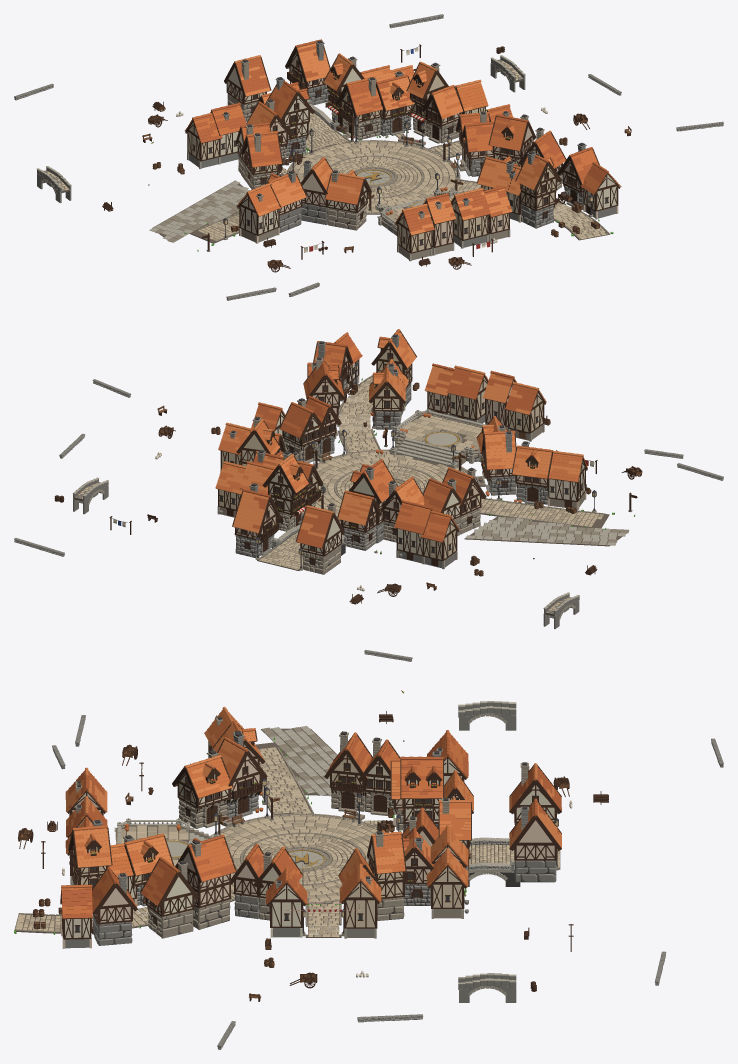
The model's file is LOBBY_VM_03_TOWN_6c3d02.fbx.
3 views of the same model, one above another, from view 1: azimuth 30°, elevation 25°; view 2: azimuth 150°, elevation 25°; view 3: azimuth 270°, elevation 25° (orthographic). The views are drawn at different scales.
Parts seen in each view (by area): view 1: VM_Town_Plaza__Stone_Paving_VM_Cob, VM_House_QEE__Wood_VM_Timber, VM_Town_Plaza__Stone_Paving_VM_CobB, VM_House_QSB__Wood_VM_Timber, VM_House_QSW__Wood_VM_Timber, VM_House_QSW__Roof_VM_Terracotta, VM_House_QSB__Roof_VM_Terracotta_B, VM_Town_RoadW__Stone_VM_Trim, VM_House_QNW__Wood_VM_Timber, VM_House_QEE__Roof_VM_Terracotta, VM_House_QNE__Wood_VM_Timber, VM_House_QNE__Roof_VM_Terracotta (+46 smaller); view 2: VM_Town_Plaza__Stone_Paving_VM_Cob, VM_Town_Spawn__Stone_VM_Trim, VM_House_QNW__Wood_VM_Timber, VM_Town_RoadW__Stone_VM_Trim, VM_House_QSW__Roof_VM_Terracotta_C, VM_House_QSW__Wood_VM_Timber, VM_House_QSB__Roof_VM_Terracotta_B, VM_House_QSB__Wood_VM_Timber, VM_House_QN__Wood_VM_Timber, VM_House_QSW__Roof_VM_Terracotta, VM_Town_RoadW__Stone_Paving_VM_Edge, VM_House_QNW__Roof_VM_Terracotta (+40 smaller); view 3: VM_Town_Plaza__Stone_Paving_VM_Cob, VM_House_QEE__Wood_VM_Timber, VM_House_QSW__Wood_VM_Timber, VM_Town_Plaza__Stone_Paving_VM_CobB, VM_House_QNE__Wood_VM_Timber, VM_House_QNW__Wood_VM_Timber, VM_House_QNE__Roof_VM_Terracotta, VM_House_QEE__Roof_VM_Terracotta, VM_House_QNE__Plaster_VM_Ochre, VM_House_QEE__Roof_VM_Terracotta_B, VM_House_QEE__Stone_VM_Warm, VM_House_QNE__Roof_VM_Terracotta_C (+46 smaller).
Boxes of the visible parts, x1,y1,x2,y2 form: VM_Town_Plaza__Stone_Paving_VM_Cob: (294, 141, 456, 212); VM_House_QEE__Wood_VM_Timber: (488, 116, 620, 213); VM_Town_Plaza__Stone_Paving_VM_CobB: (290, 141, 457, 212); VM_House_QSB__Wood_VM_Timber: (395, 197, 511, 253); VM_House_QSW__Wood_VM_Timber: (237, 158, 371, 235); VM_House_QSW__Roof_VM_Terracotta: (236, 157, 363, 213); VM_House_QSB__Roof_VM_Terracotta_B: (396, 186, 511, 231); VM_Town_RoadW__Stone_VM_Trim: (149, 181, 249, 239); VM_House_QNW__Wood_VM_Timber: (185, 112, 282, 184); VM_House_QEE__Roof_VM_Terracotta: (489, 119, 619, 191); VM_House_QNE__Wood_VM_Timber: (406, 63, 487, 140); VM_House_QNE__Roof_VM_Terracotta: (360, 64, 488, 119); VM_Town_Plaza__Stone_Paving_VM_Cob: (315, 451, 467, 517); VM_Town_Spawn__Stone_VM_Trim: (389, 408, 486, 468); VM_House_QNW__Wood_VM_Timber: (395, 469, 486, 566); VM_Town_RoadW__Stone_VM_Trim: (466, 517, 625, 545); VM_House_QSW__Roof_VM_Terracotta_C: (479, 416, 587, 477); VM_House_QSW__Wood_VM_Timber: (476, 417, 587, 507); VM_House_QSB__Roof_VM_Terracotta_B: (426, 363, 545, 411); VM_House_QSB__Wood_VM_Timber: (425, 375, 545, 433); VM_House_QN__Wood_VM_Timber: (232, 491, 344, 565); VM_House_QSW__Roof_VM_Terracotta: (476, 419, 587, 482); VM_Town_RoadW__Stone_Paving_VM_Edge: (480, 498, 629, 544); VM_House_QNW__Roof_VM_Terracotta: (396, 467, 473, 538); VM_Town_Plaza__Stone_Paving_VM_Cob: (220, 815, 377, 902); VM_House_QEE__Wood_VM_Timber: (60, 837, 236, 939); VM_House_QSW__Wood_VM_Timber: (172, 724, 267, 824); VM_Town_Plaza__Stone_Paving_VM_CobB: (221, 815, 377, 902); VM_House_QNE__Wood_VM_Timber: (338, 834, 466, 928); VM_House_QNW__Wood_VM_Timber: (324, 734, 466, 812); VM_House_QNE__Roof_VM_Terracotta: (338, 825, 468, 902); VM_House_QEE__Roof_VM_Terracotta: (60, 838, 232, 914); VM_House_QNE__Plaster_VM_Ochre: (346, 844, 461, 927); VM_House_QEE__Roof_VM_Terracotta_B: (60, 834, 235, 918); VM_House_QEE__Stone_VM_Warm: (148, 842, 230, 938); VM_House_QNE__Roof_VM_Terracotta_C: (339, 828, 468, 893).
Bounding box in the file's own units: 270 × 36.51 × 238.
